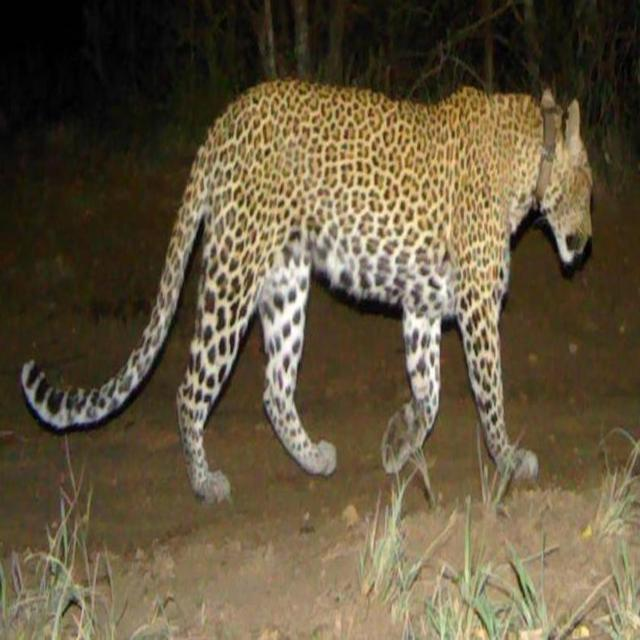Leopard: (31, 92, 598, 506)
